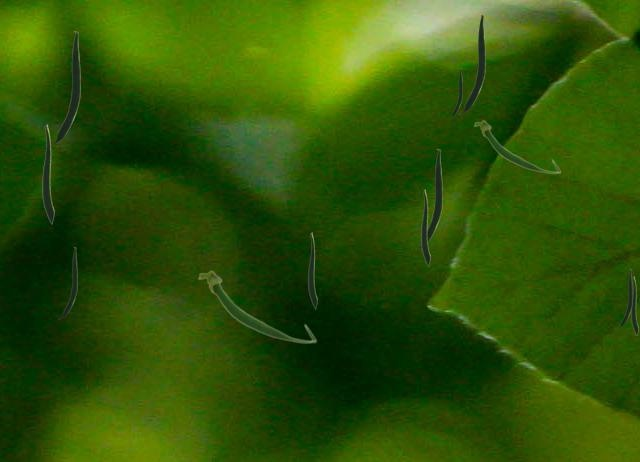french_bean: (197, 270, 316, 343), (473, 119, 560, 173), (52, 31, 79, 144), (416, 149, 441, 248), (459, 14, 484, 113), (59, 247, 76, 318), (42, 124, 53, 223), (618, 269, 631, 327), (308, 232, 316, 308), (421, 189, 429, 265), (450, 68, 461, 116), (631, 276, 637, 334)
